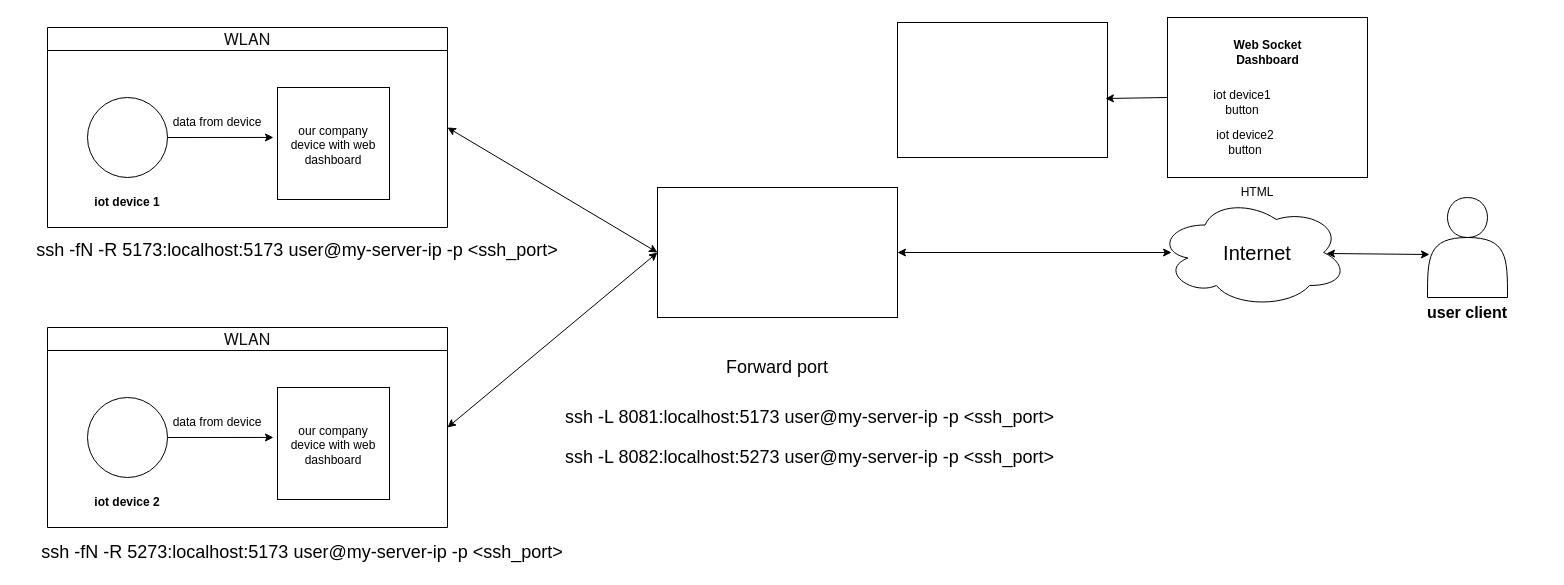
This 1564x585 diagram has some shape labels left out. Each missing label, with the centre of its shape:
"Nginx reversed proxy /iot1 -> my-server-ip:8081 /iot2 -> my-server-ip:8082" belongs at (1002,90).
"Server my-server-ip" belongs at (777,252).
